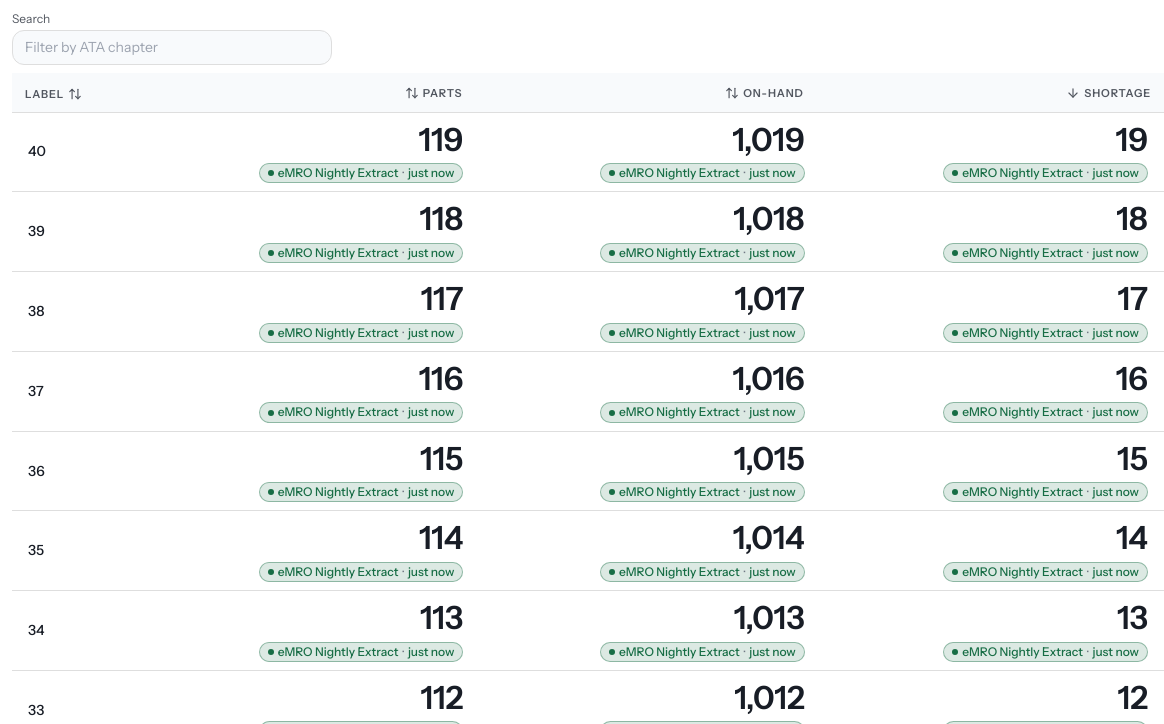
Scenario: BreakdownTable search › shows a no-match message naming the query instead of the no-data empty state
This screenshot has width=1164, height=724.
Type "zzz" into the field labelled "Search" at (172, 48), box [12,30,332,65]
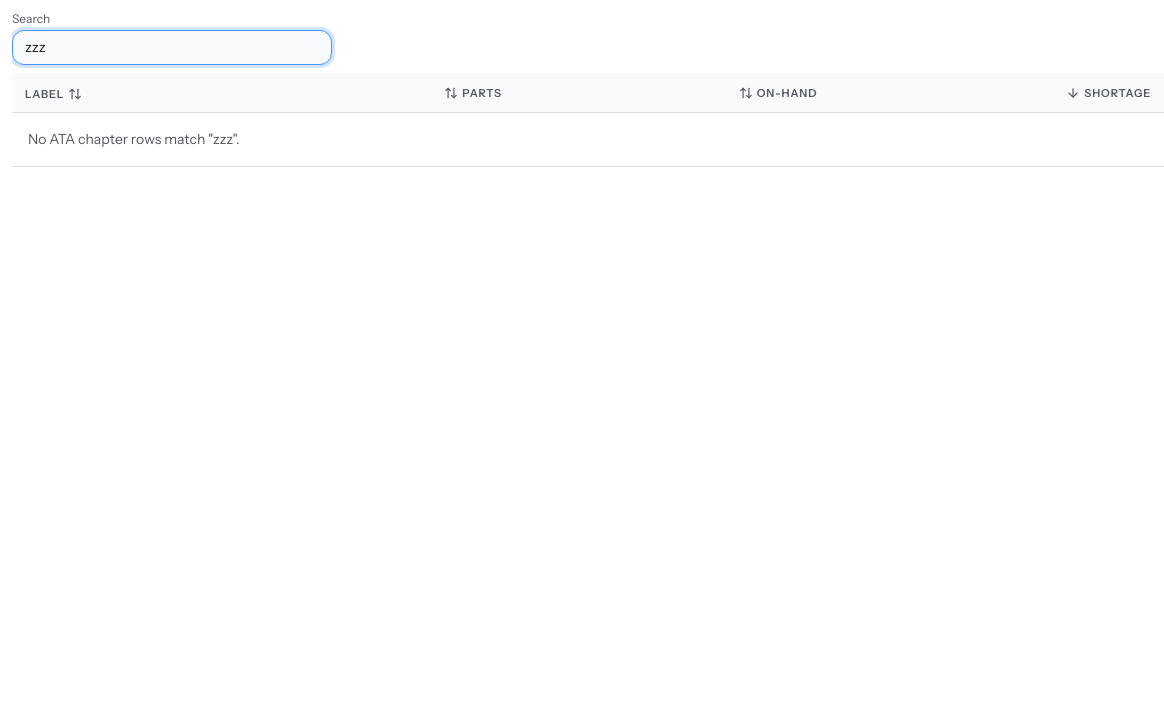
Now the text "No ATA chapter rows match \"zzz\"." is shown, box [12,113,1163,166]
